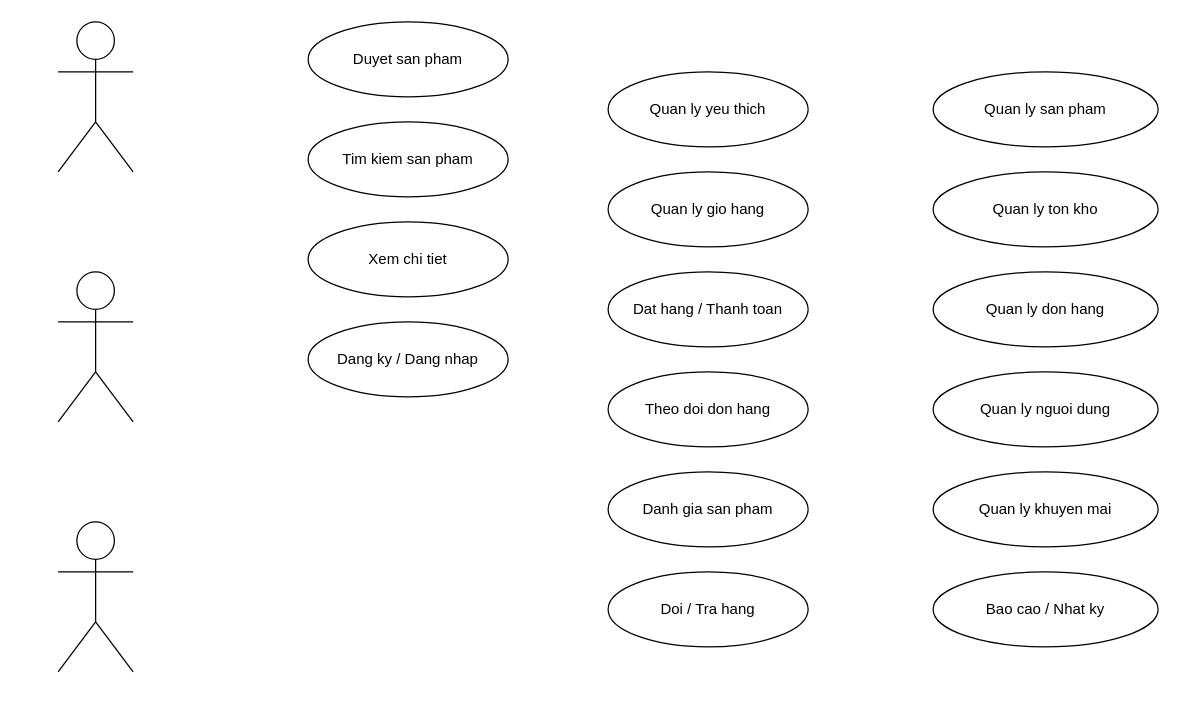
This 1180x720 diagram has some shape labels left out. The shapes that lost their labels are listed below. From the top down, each one's centre as x and y in pixels, then its label:
At point (95, 96): "Khach vang lai".
At point (95, 346): "Nguoi dung".
At point (95, 596): "Admin / Nha ban hang".
